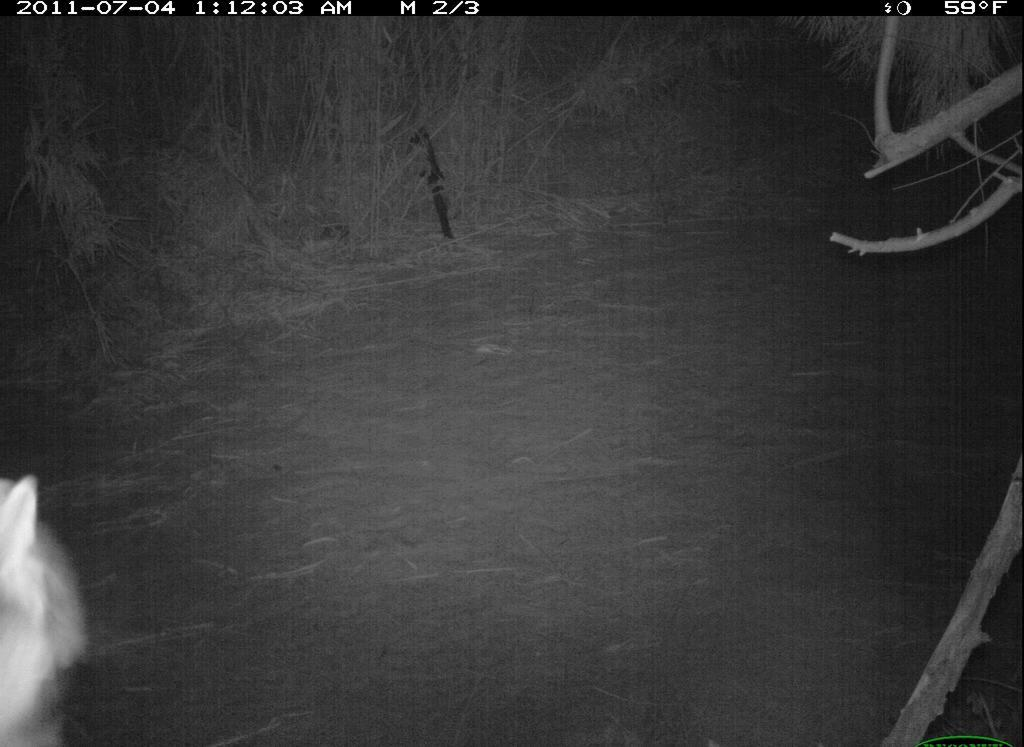raccoon: (1, 436, 100, 740)
